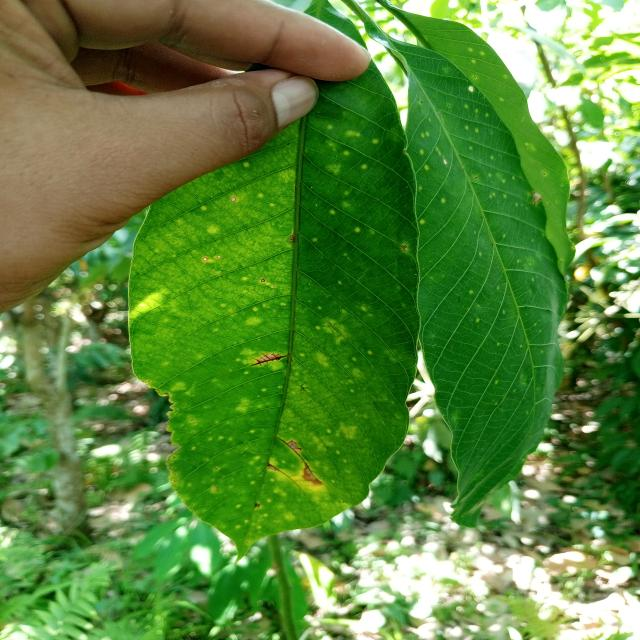Colletotrichum: (400, 245, 407, 249), (231, 197, 236, 202), (203, 257, 207, 261), (261, 279, 265, 282), (190, 419, 194, 422), (217, 256, 221, 258), (273, 286, 275, 288)
Corynespora: (277, 436, 313, 474), (250, 352, 286, 367), (267, 463, 280, 472)
Leaf-Blight: (302, 463, 322, 484), (287, 440, 300, 455), (269, 466, 276, 470)
